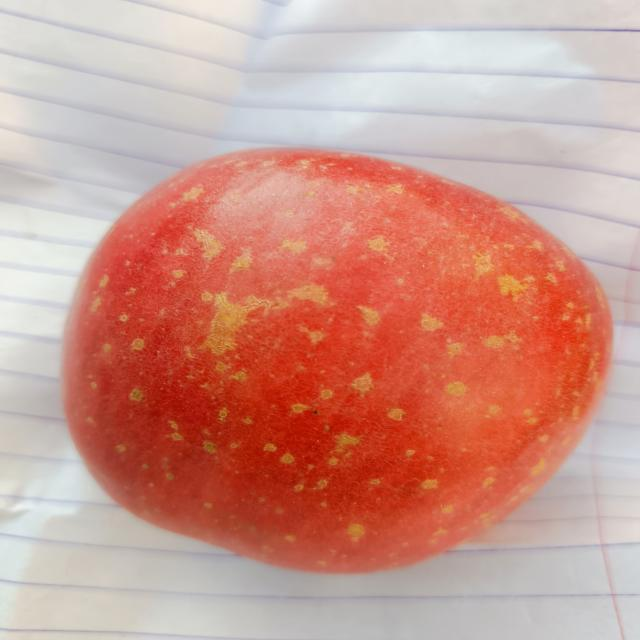Fresh Apple: (85, 155, 602, 595)
